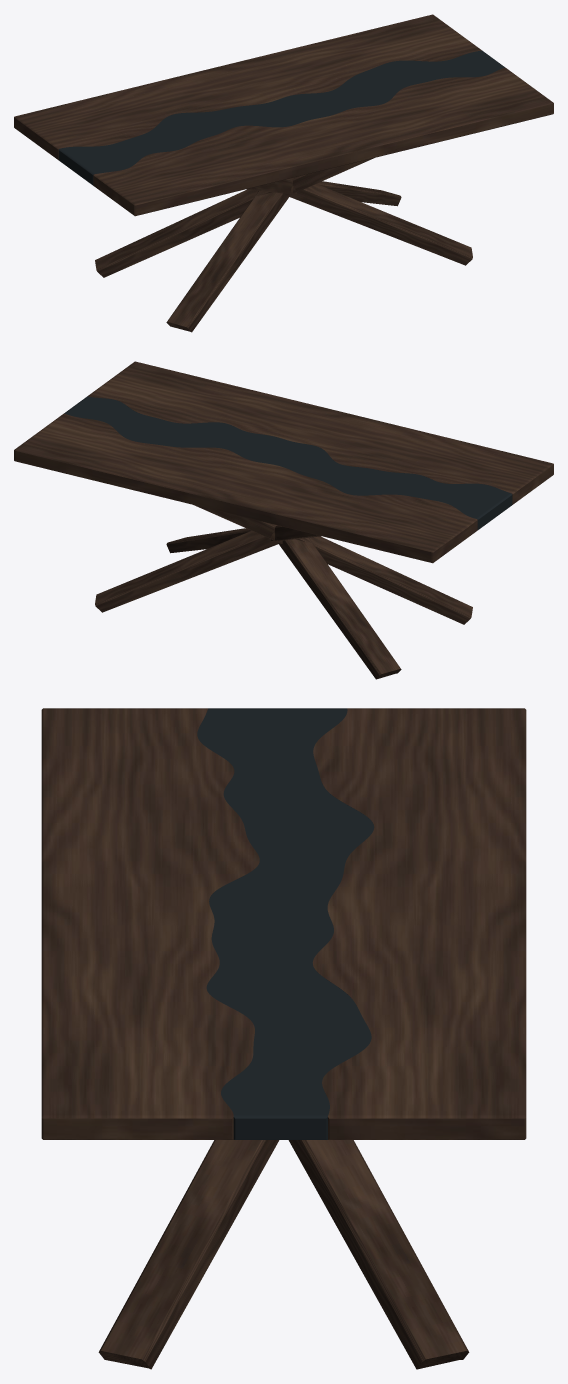
Rendered from rectangular-walnut-epoxy-black.glb.
3 renders of one model, top to bottom at view 1: azimuth 30°, elevation 25°; view 2: azimuth 150°, elevation 25°; view 3: azimuth 270°, elevation 25°, orthographic. The views are drawn at different scales.
Visible parts, largest first — view 1: Wood_Rectangular_EpoxyFar, Wood_Rectangular_EpoxyNear, Base_target, Resin_Rectangular; view 2: Wood_Rectangular_EpoxyNear, Wood_Rectangular_EpoxyFar, Base_target, Resin_Rectangular; view 3: Wood_Rectangular_EpoxyNear, Wood_Rectangular_EpoxyFar, Resin_Rectangular, Base_target.
Boxes of the visible parts, left/top/right/bottom form: Wood_Rectangular_EpoxyFar: left=93, top=67, right=553, bottom=216; Wood_Rectangular_EpoxyNear: left=14, top=14, right=481, bottom=159; Base_target: left=95, top=158, right=472, bottom=332; Resin_Rectangular: left=58, top=50, right=504, bottom=185; Wood_Rectangular_EpoxyNear: left=14, top=413, right=477, bottom=563; Wood_Rectangular_EpoxyFar: left=88, top=361, right=553, bottom=504; Base_target: left=95, top=505, right=472, bottom=679; Resin_Rectangular: left=64, top=396, right=512, bottom=529; Wood_Rectangular_EpoxyNear: left=312, top=708, right=526, bottom=1139; Wood_Rectangular_EpoxyFar: left=41, top=708, right=259, bottom=1139; Resin_Rectangular: left=197, top=708, right=374, bottom=1139; Base_target: left=98, top=1140, right=469, bottom=1369.
Size of the model in its own units: 2.13 by 0.762 by 1.07.
3 materials, 2 textured.
